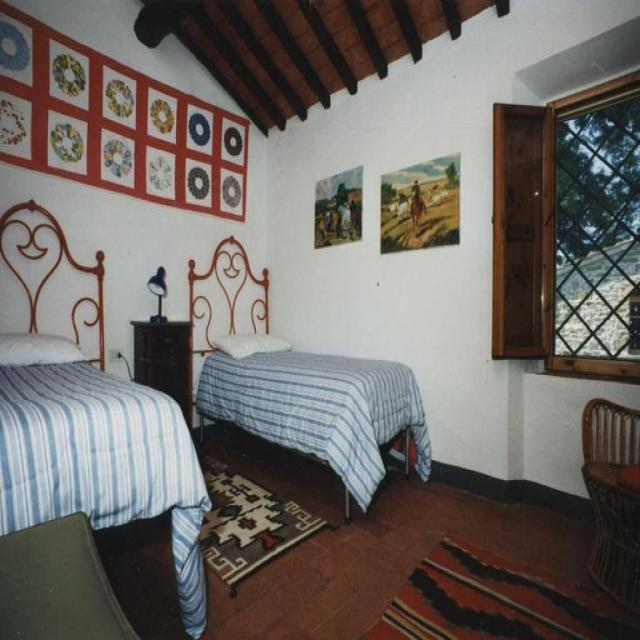bed: (0, 198, 212, 638), (187, 233, 431, 522)
cupboard: (130, 318, 192, 430)
curtains: (0, 0, 250, 222)
door: (491, 101, 551, 358)
lamps: (146, 265, 167, 323)
pillows: (0, 332, 90, 366), (210, 331, 292, 359)
rugs: (362, 530, 638, 639), (195, 448, 339, 596)
windows: (544, 71, 639, 381)
